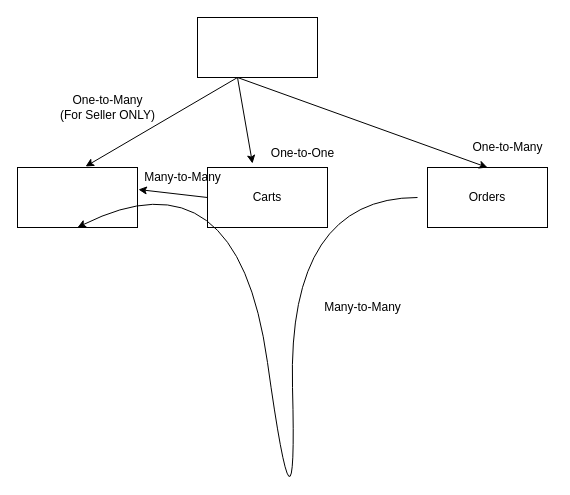
Some shapes in this 570 by 495 pixel diagram are drawn without their labels. Each missing label, with the centre of its shape:
"Products" belongs at pixel 77 197.
"Users" belongs at pixel 257 47.
